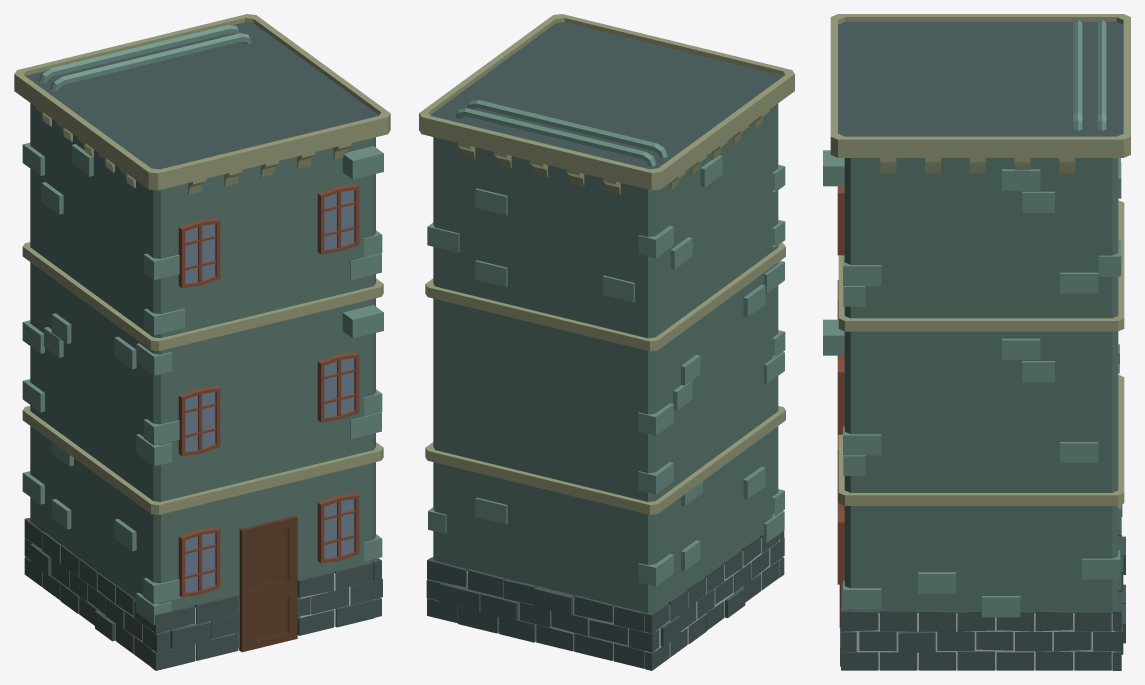
The model's file is 3story_small_mat.glb.
3 views of the same model, side by side, from view 1: azimuth 30°, elevation 25°; view 2: azimuth 150°, elevation 25°; view 3: azimuth 270°, elevation 25° (orthographic). The views are drawn at different scales.
Parts seen in each view (by area): view 1: 3Story_Small_Mat; view 2: 3Story_Small_Mat; view 3: 3Story_Small_Mat.
Boxes of the visible parts, left/top/right/bottom form: 3Story_Small_Mat: left=14, top=14, right=390, bottom=670; 3Story_Small_Mat: left=419, top=14, right=794, bottom=670; 3Story_Small_Mat: left=823, top=14, right=1130, bottom=670.
Bounding box in the file's own units: 1.91 × 3.85 × 1.97.
